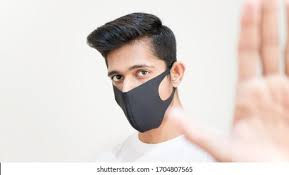MASK: (113, 69, 175, 133)
